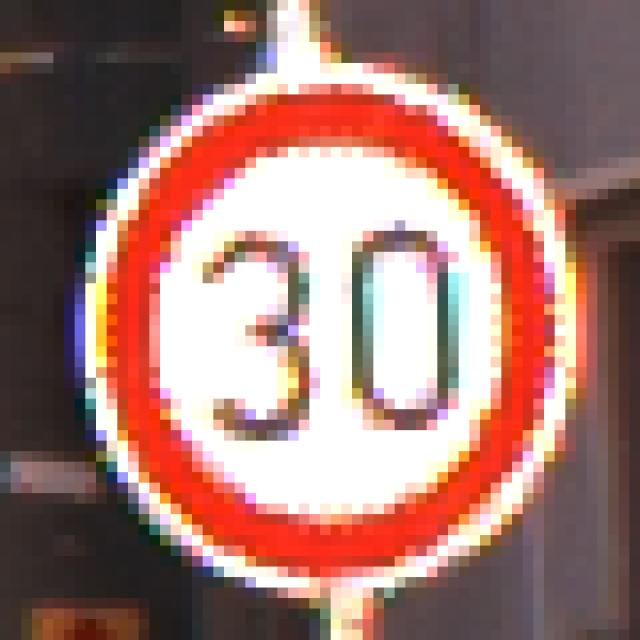Speed Limit -30-: (64, 48, 576, 582)
